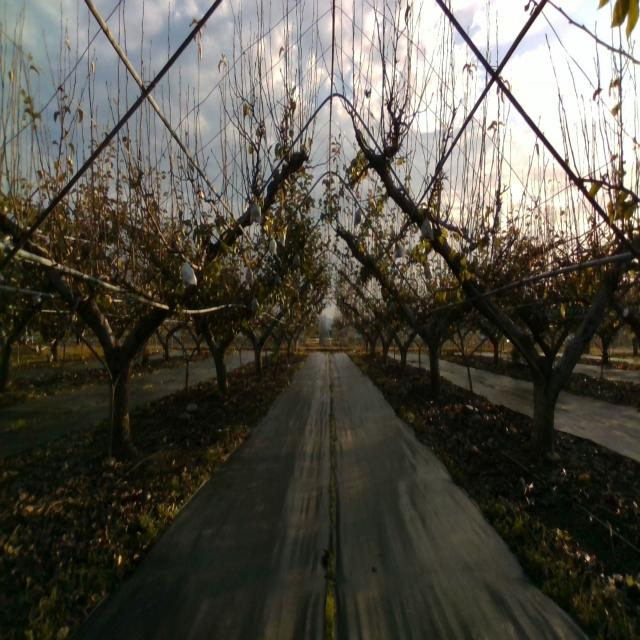pearbags: (180, 255, 197, 289), (419, 216, 434, 242), (249, 198, 262, 224)
